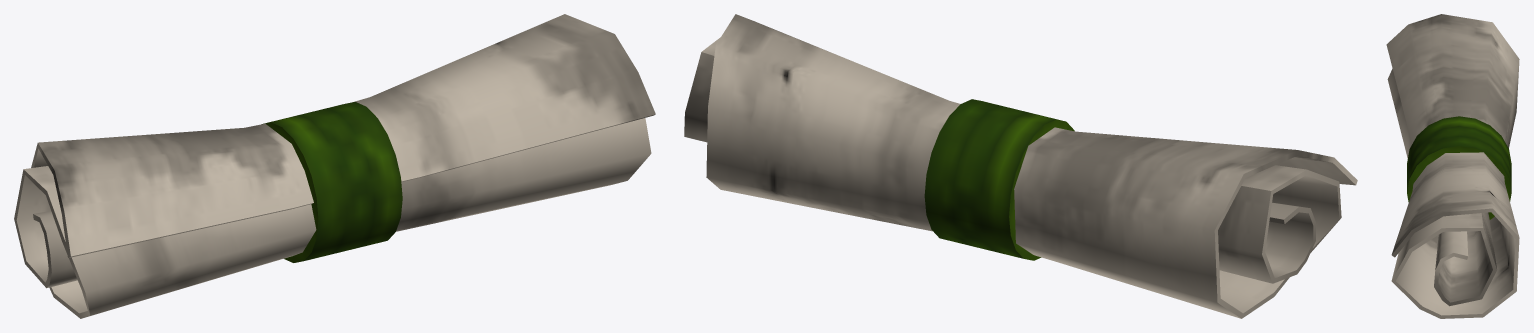
Rendered from scroll-BGNJLza-.glb.
The picture shows the model from 3 angles, left to right: view 1: azimuth 30°, elevation 25°; view 2: azimuth 150°, elevation 25°; view 3: azimuth 270°, elevation 25°; orthographic projection. The views are drawn at different scales.
Parts seen in each view (by area): view 1: Scroll_1; view 2: Scroll_1; view 3: Scroll_1.
Part boxes in pixels (x1=…): Scroll_1: x1=14, y1=14, x2=655, y2=318; Scroll_1: x1=684, y1=14, x2=1357, y2=318; Scroll_1: x1=1386, y1=14, x2=1519, y2=318.
Size of the model in its own units: 0.8536 by 0.2058 by 0.2209.
2 materials, 2 textured.
